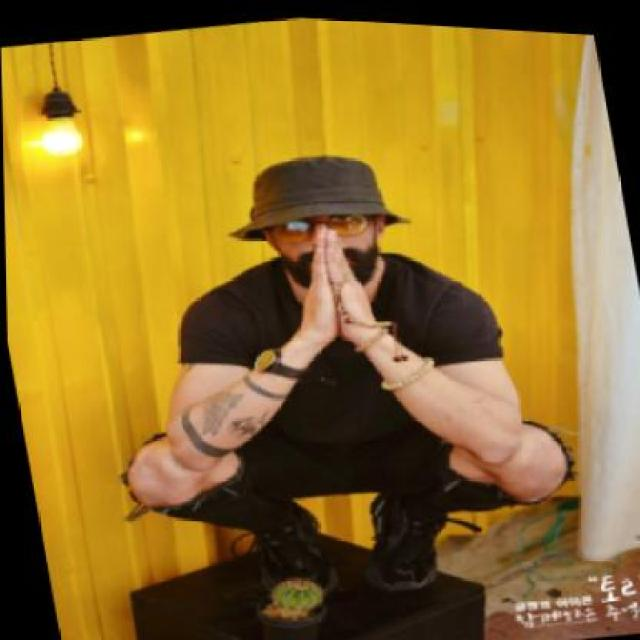hat: (200, 127, 414, 250)
